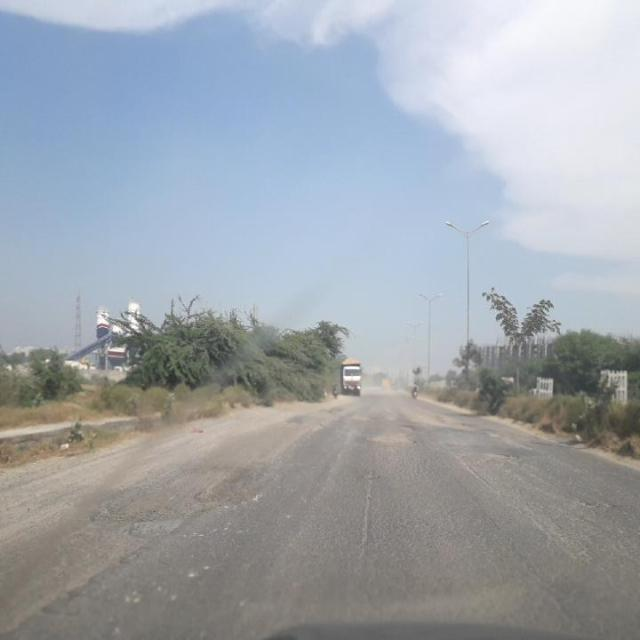D00: (454, 450, 564, 538), (350, 447, 380, 576)
D20: (342, 429, 468, 575), (499, 444, 625, 590)
D40: (98, 456, 260, 540), (415, 406, 486, 428), (479, 441, 522, 463), (371, 426, 413, 448), (396, 412, 419, 432)
